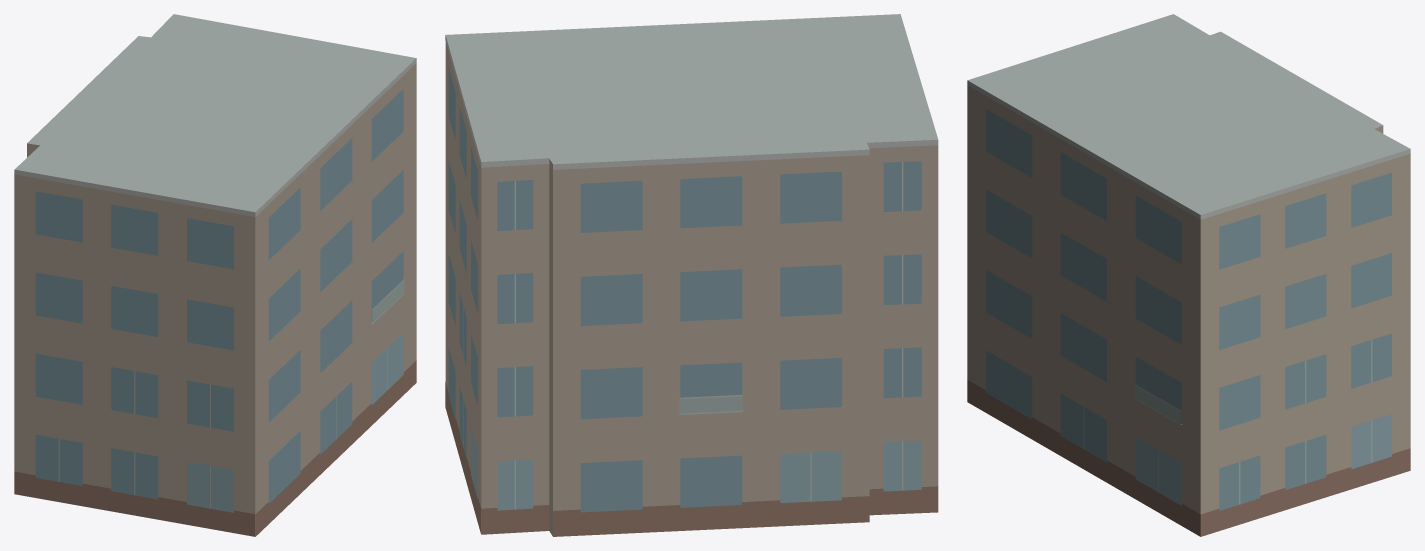
The model's file is survey-upis-33035330.glb.
The picture shows the model from 3 angles, left to right: view 1: azimuth 30°, elevation 25°; view 2: azimuth 150°, elevation 25°; view 3: azimuth 270°, elevation 25°; orthographic projection. The views are drawn at different scales.
Visible parts, largest first — view 1: survey-upis-33035330.tmp; view 2: survey-upis-33035330.tmp; view 3: survey-upis-33035330.tmp.
Boxes of the visible parts, x1,y1,x2,y2 form: survey-upis-33035330.tmp: (14, 14, 416, 536); survey-upis-33035330.tmp: (445, 14, 938, 536); survey-upis-33035330.tmp: (967, 14, 1410, 536).
Bounding box in the file's own units: 22.08 × 16.47 × 20.57.
